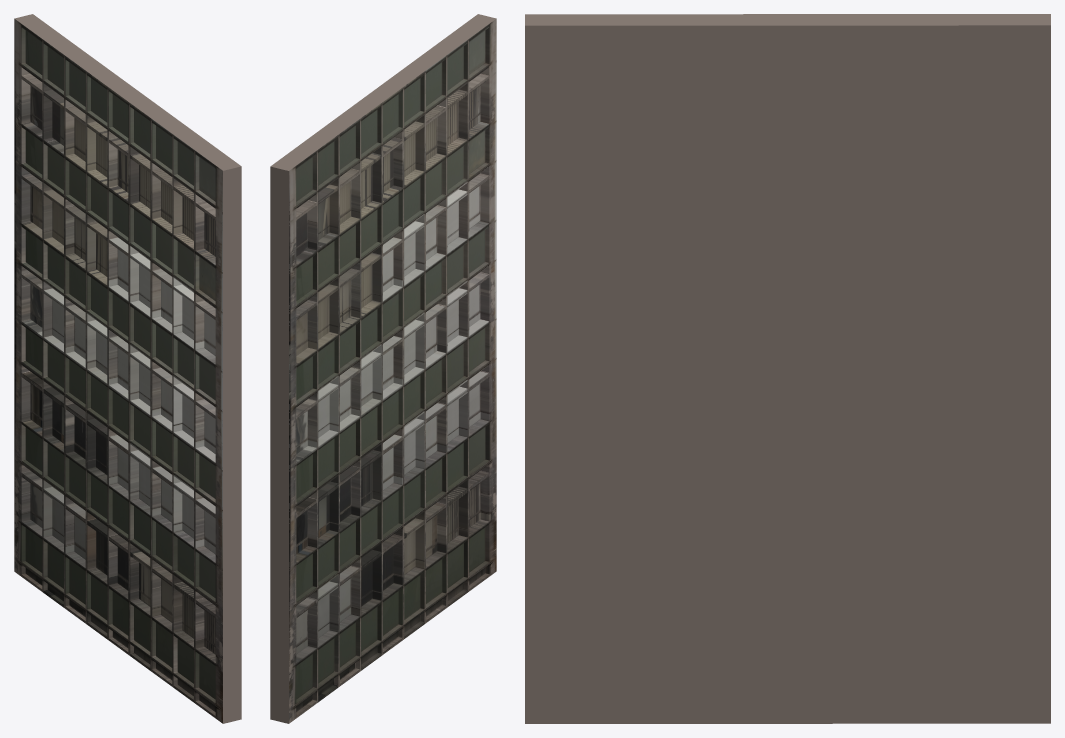
File: facade1.fbx
The picture shows the model from 3 angles, left to right: view 1: azimuth 30°, elevation 25°; view 2: azimuth 150°, elevation 25°; view 3: azimuth 270°, elevation 25°; orthographic projection. The views are drawn at different scales.
Visible parts, largest first — view 1: facade 1.002; view 2: facade 1.002; view 3: facade 1.002.
Part boxes in pixels (x1,y1,x2,y2): facade 1.002: (14, 14, 241, 723); facade 1.002: (270, 14, 496, 723); facade 1.002: (525, 14, 1050, 723).
Size of the model in its own units: 3.38 by 93.83 by 64.06.
2 materials, 2 textured.
